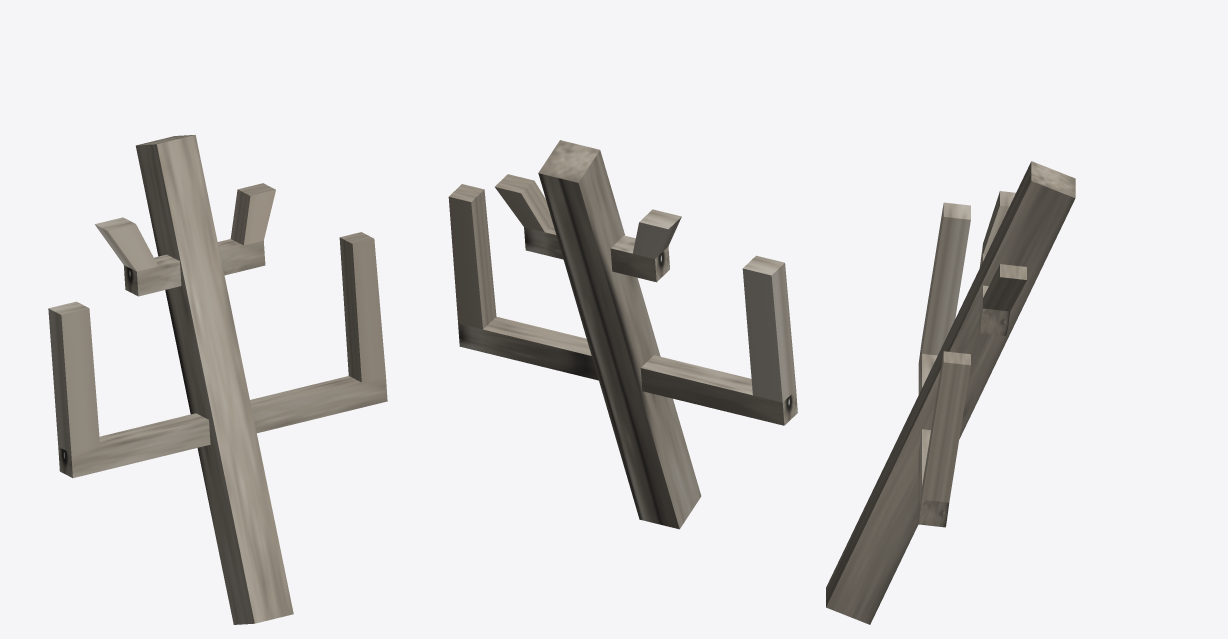
File: lusi_prop_elite_2.dae
3 views of the same model, side by side, from view 1: azimuth 30°, elevation 25°; view 2: azimuth 150°, elevation 25°; view 3: azimuth 270°, elevation 25° (orthographic). The views are drawn at different scales.
Visible parts, largest first — view 1: lusi_prop_elite_2; view 2: lusi_prop_elite_2; view 3: lusi_prop_elite_2.
Boxes of the visible parts, x1=… form: lusi_prop_elite_2: x1=48, y1=135, x2=387, y2=624; lusi_prop_elite_2: x1=448, y1=140, x2=797, y2=529; lusi_prop_elite_2: x1=826, y1=161, x2=1075, y2=624.
Size of the model in its own units: 0.4977 by 0.5077 by 0.7828.
